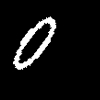chain: (13, 17, 55, 69)
